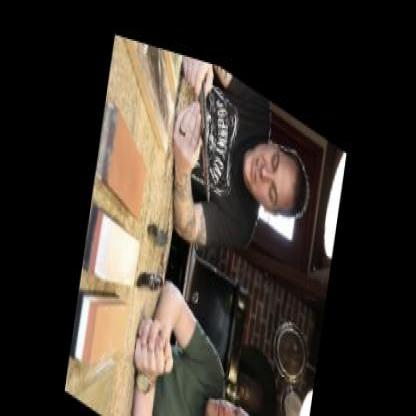knife: (173, 42, 235, 212)
